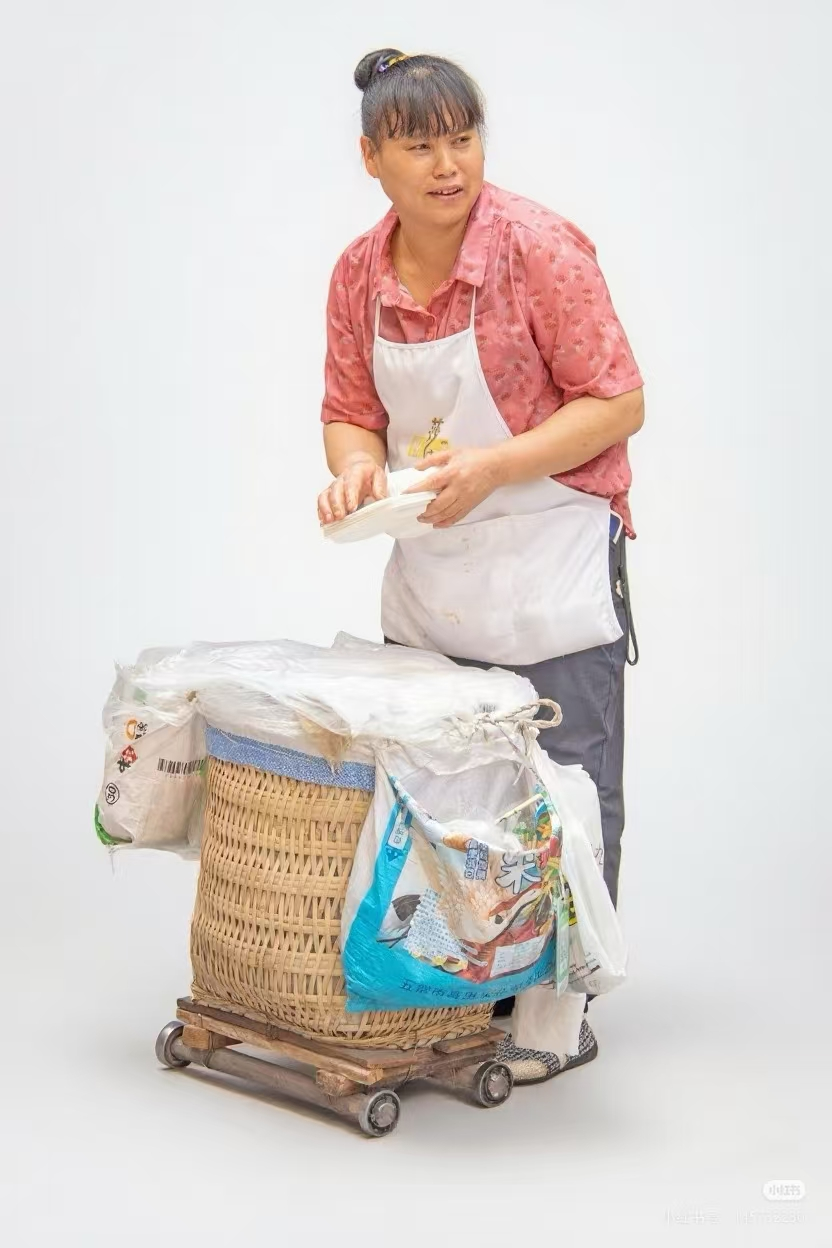up: (303, 33, 669, 1097)
